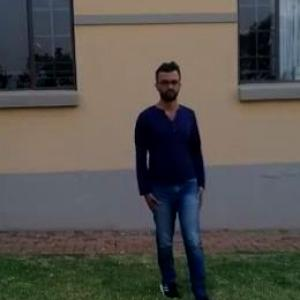follow: (135, 62, 203, 294)
